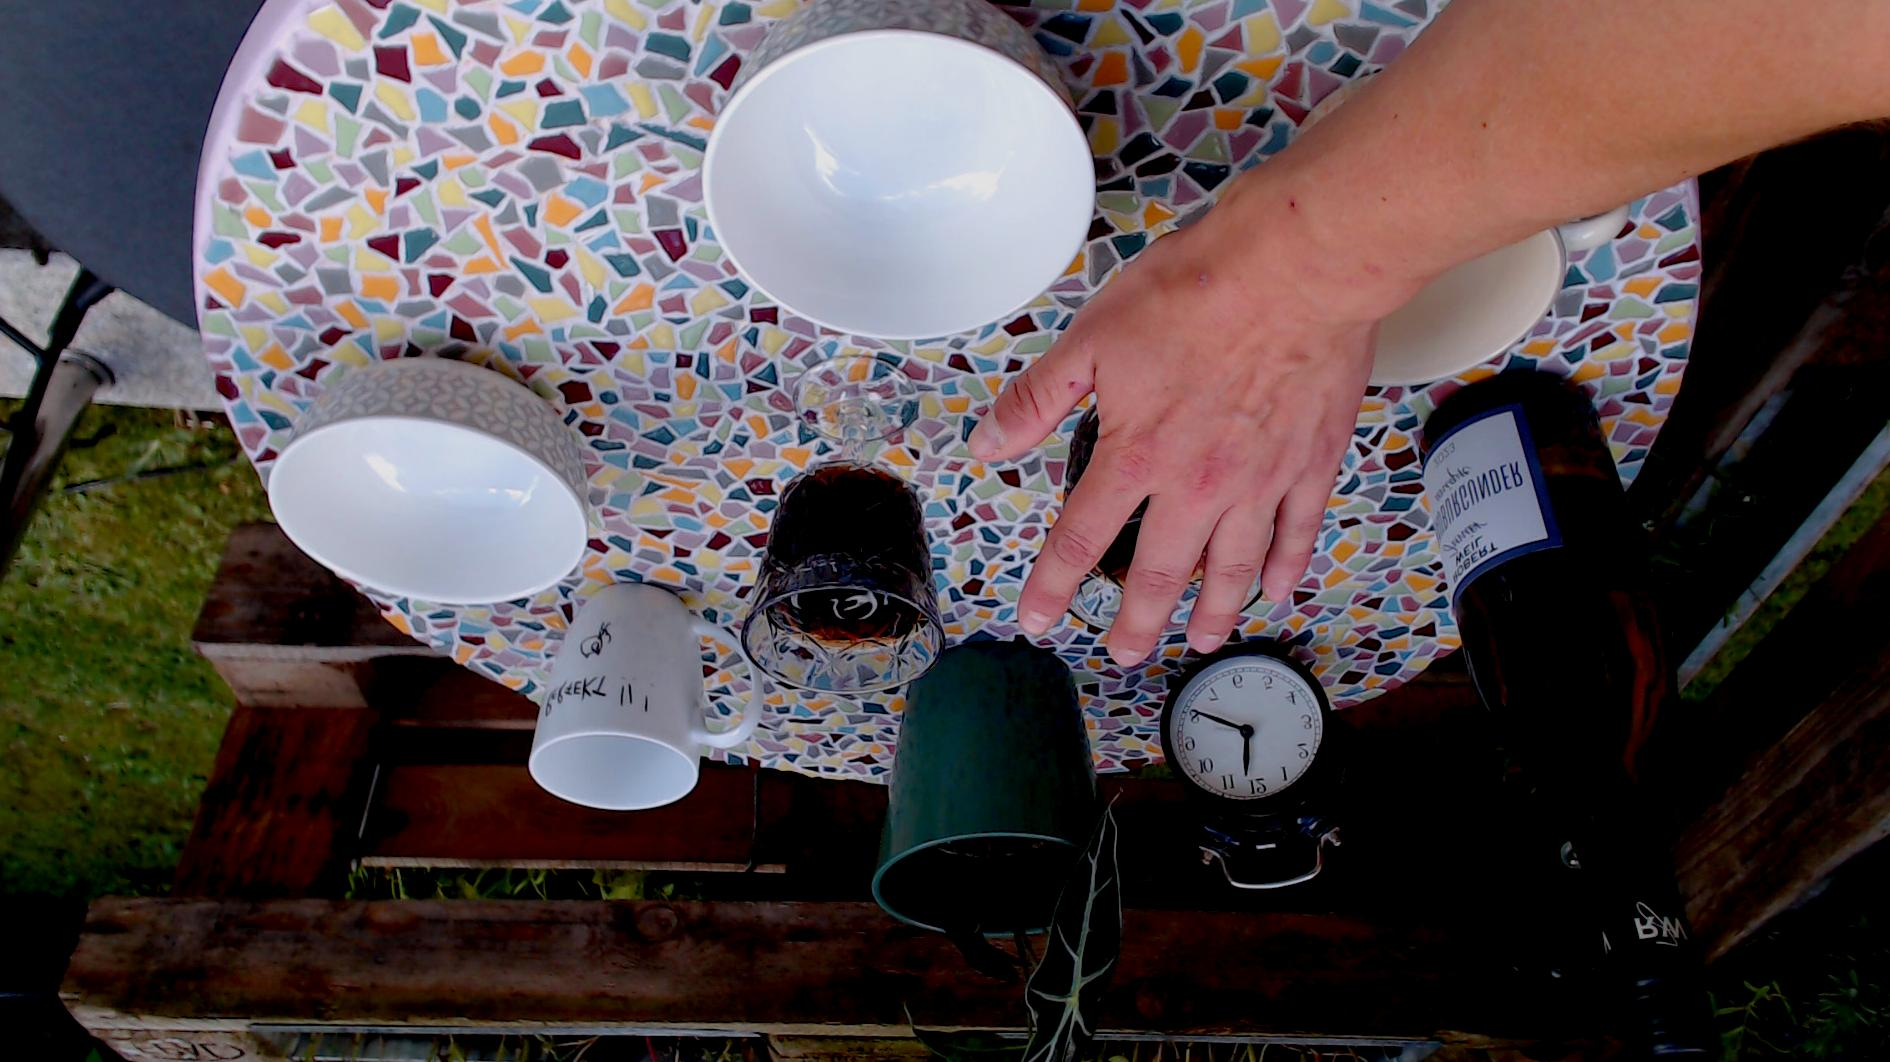bottle: (1412, 373, 1717, 1062)
bowl_close: (702, 0, 1097, 341)
bowl_far: (265, 354, 592, 605)
clock: (1164, 650, 1327, 804)
cup_close: (1366, 225, 1565, 388)
cup_far: (528, 583, 766, 811)
hand_far: (976, 225, 1379, 661)
potted_plant: (871, 639, 1128, 1062)
wineglass_close: (1064, 556, 1276, 635)
wineglass_far: (737, 354, 945, 701)
